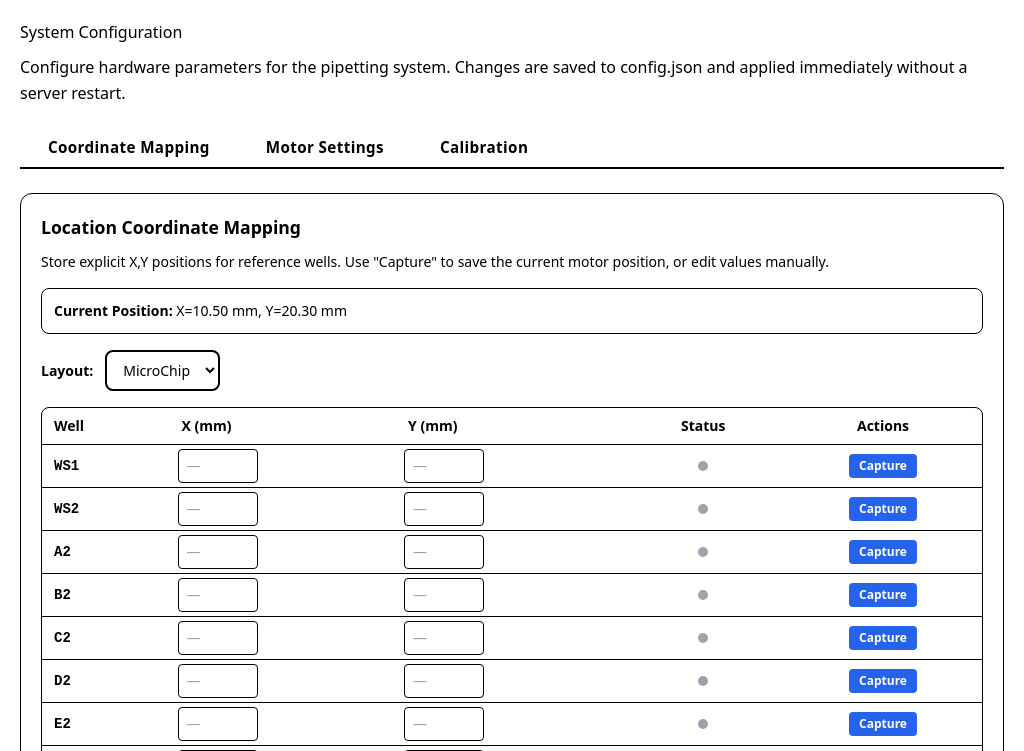
Test case: Settings sub-tab navigation › switching to Motor Settings shows motor config
Step 1. Click the button "Motor Settings" → (325, 147), box x1=238 y1=126 x2=412 y2=169
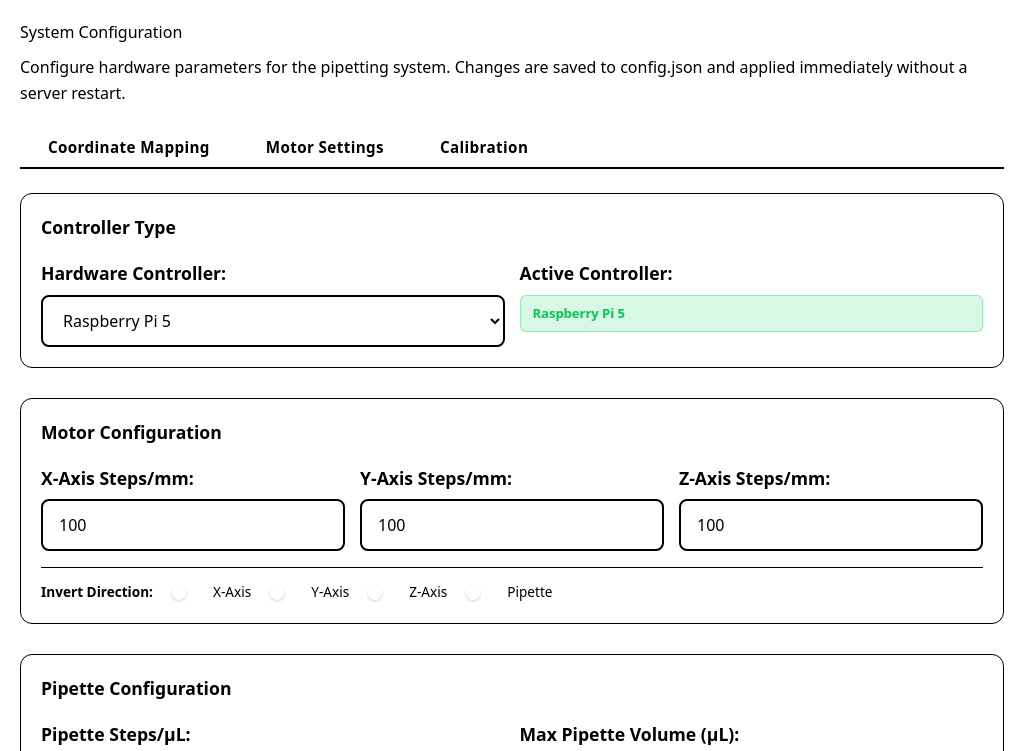
Check: the heading "Motor Configuration" is shown, box x1=41 y1=420 x2=222 y2=444
Check: the text "X-Axis Steps/mm:" is shown, box x1=41 y1=466 x2=194 y2=490
Check: the text "Y-Axis Steps/mm:" is shown, box x1=360 y1=466 x2=512 y2=490
